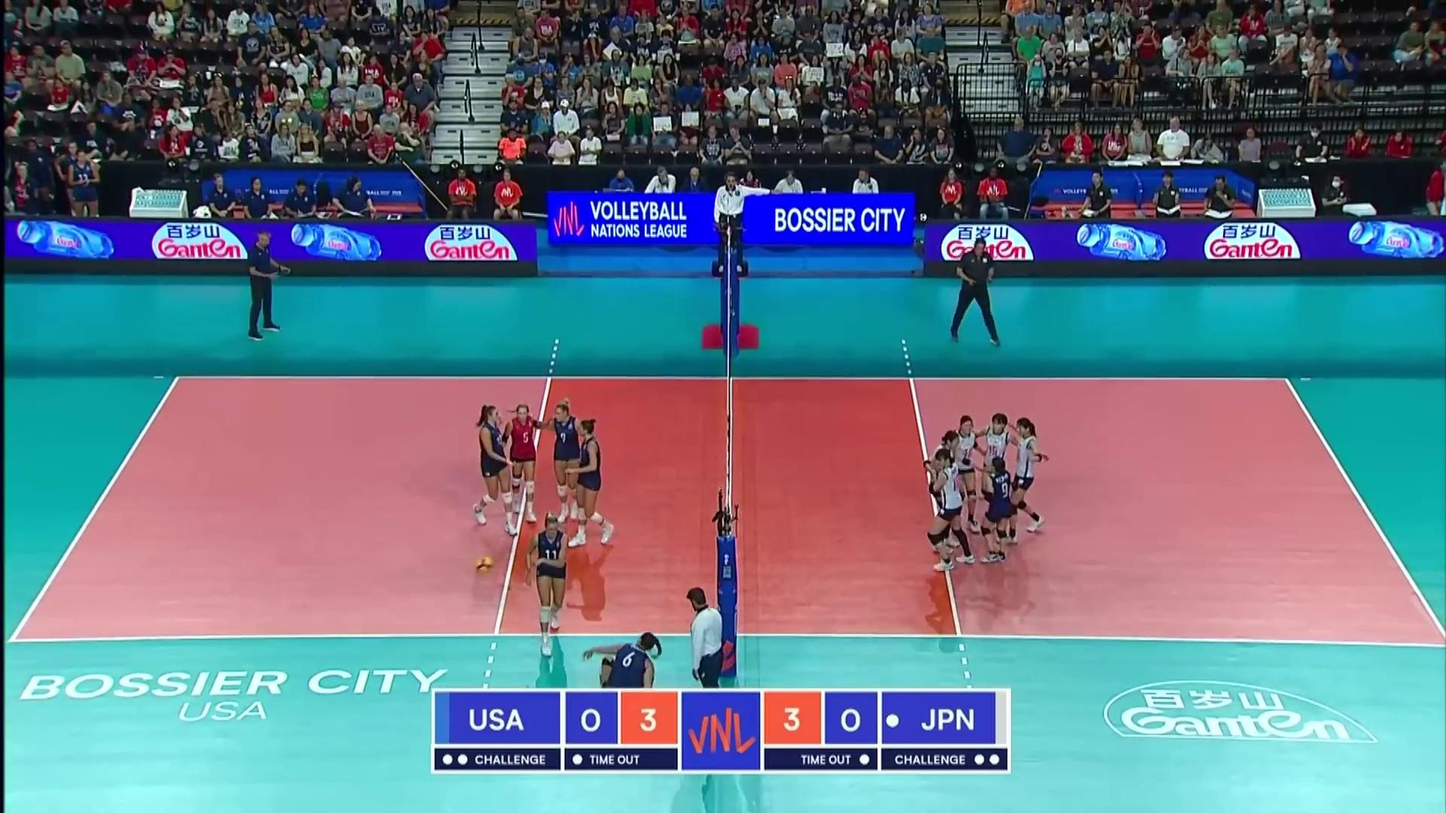player: (472, 406, 518, 536), (529, 514, 571, 653), (571, 420, 614, 547), (931, 451, 974, 573), (1010, 419, 1050, 544), (589, 632, 662, 698), (545, 400, 583, 522), (507, 405, 545, 524), (952, 413, 984, 537), (982, 414, 1017, 524), (932, 429, 962, 553), (982, 457, 1011, 565)
refree: (683, 587, 728, 688), (717, 174, 745, 269)
